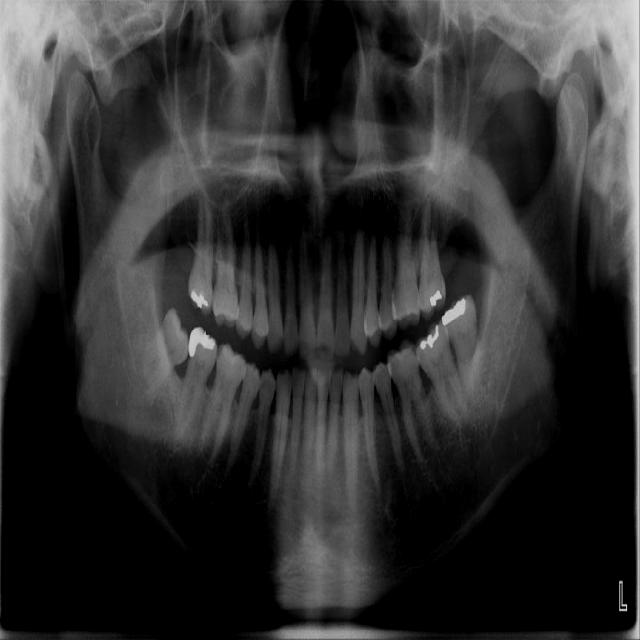Filling: (188, 328, 216, 358), (440, 297, 468, 325), (419, 323, 442, 353), (189, 289, 209, 310), (427, 288, 445, 308)
Periapical lesion: (381, 463, 409, 529)
impacted tooth: (128, 307, 190, 399)
